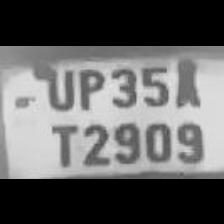0: (140, 116, 172, 162)
2: (76, 118, 110, 166)
3: (106, 60, 138, 108)
5: (136, 60, 170, 106)
9: (172, 114, 206, 162), (110, 114, 140, 164)
P: (72, 62, 106, 110)
T: (42, 118, 79, 166)
U: (38, 60, 76, 110)
